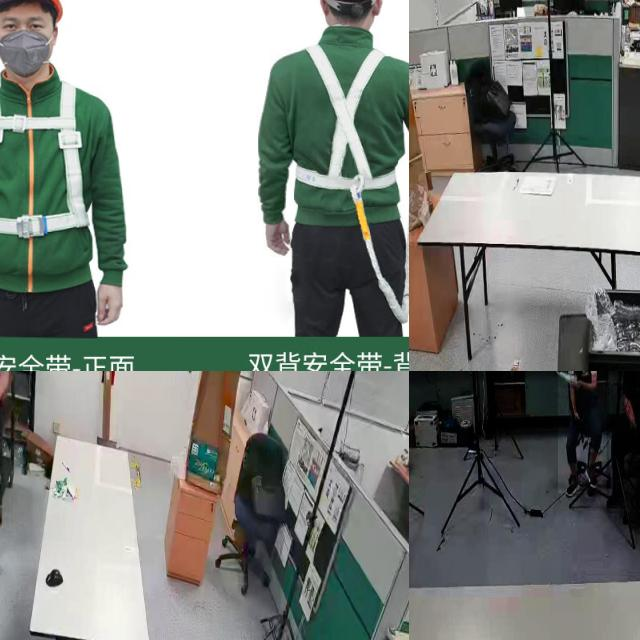Harness: (283, 46, 409, 307), (0, 83, 98, 334)
hand_noglove: (572, 408, 584, 426), (570, 376, 584, 389), (632, 419, 640, 441)
person: (558, 371, 607, 494), (609, 371, 640, 516)
shoes: (584, 456, 600, 493), (566, 464, 582, 497)
